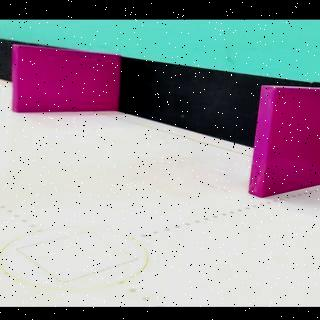xparking: (15, 56, 118, 120), (271, 88, 319, 202)
